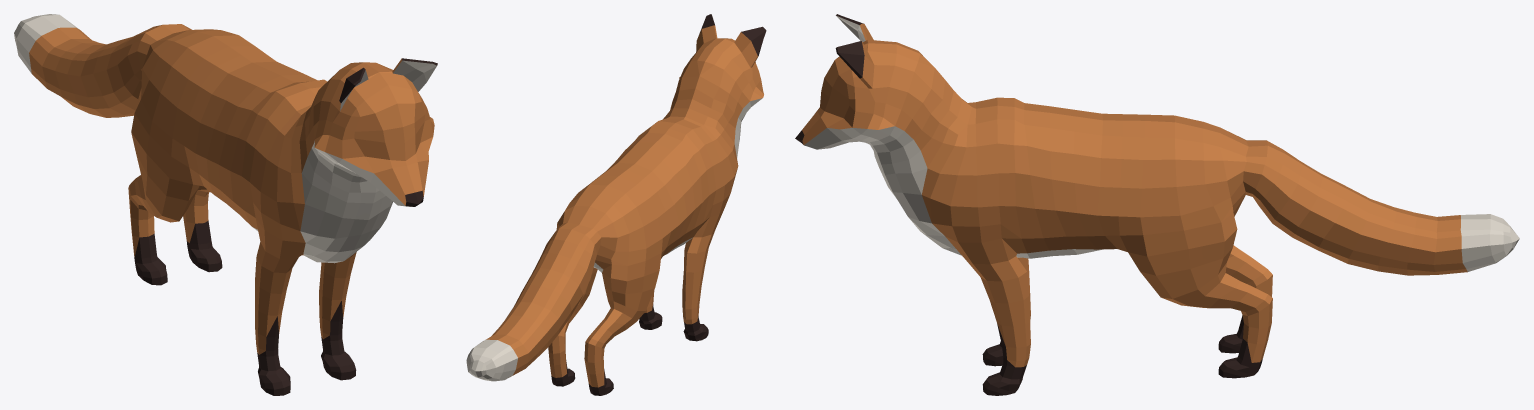
The model's file is fox.glb.
The picture shows the model from 3 angles, left to right: view 1: azimuth 30°, elevation 25°; view 2: azimuth 150°, elevation 25°; view 3: azimuth 270°, elevation 25°; orthographic projection. The views are drawn at different scales.
Visible parts, largest first — view 1: Cylinder; view 2: Cylinder; view 3: Cylinder.
Part boxes in pixels (x1,y1,x2,y2): Cylinder: (14, 14, 437, 395); Cylinder: (466, 14, 766, 395); Cylinder: (795, 14, 1519, 395).
Bounding box in the file's own units: 0.0626 × 0.1875 × 0.3561.
